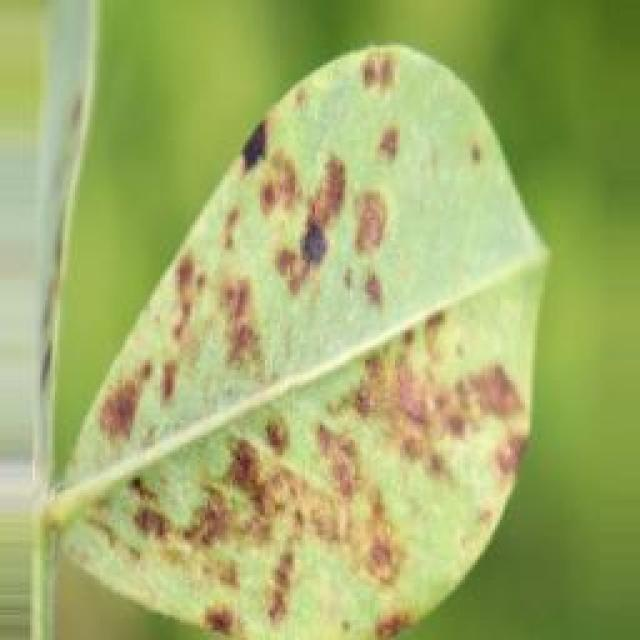Whitefly: (7, 0, 537, 640)
